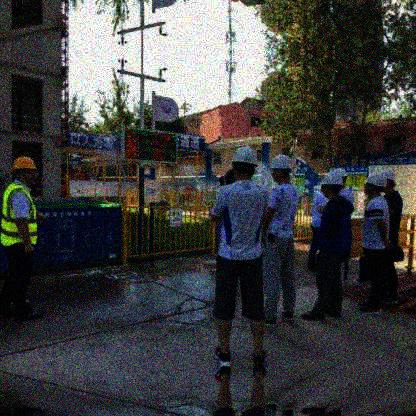helmet: (230, 147, 260, 181), (13, 155, 38, 189), (320, 172, 343, 200), (270, 155, 292, 184), (365, 173, 389, 196)
